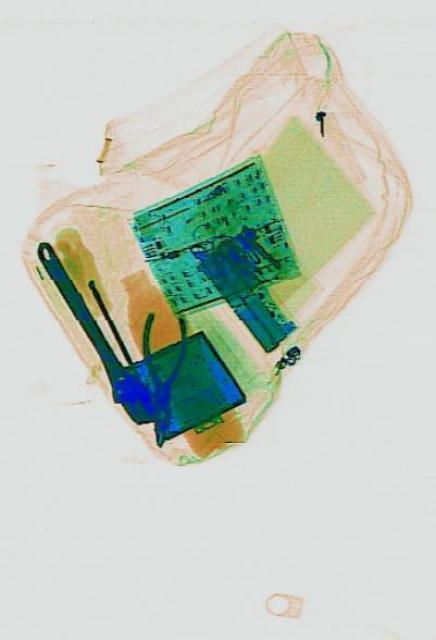Pliers: (135, 311, 185, 447)
Wrench: (26, 227, 157, 436)
